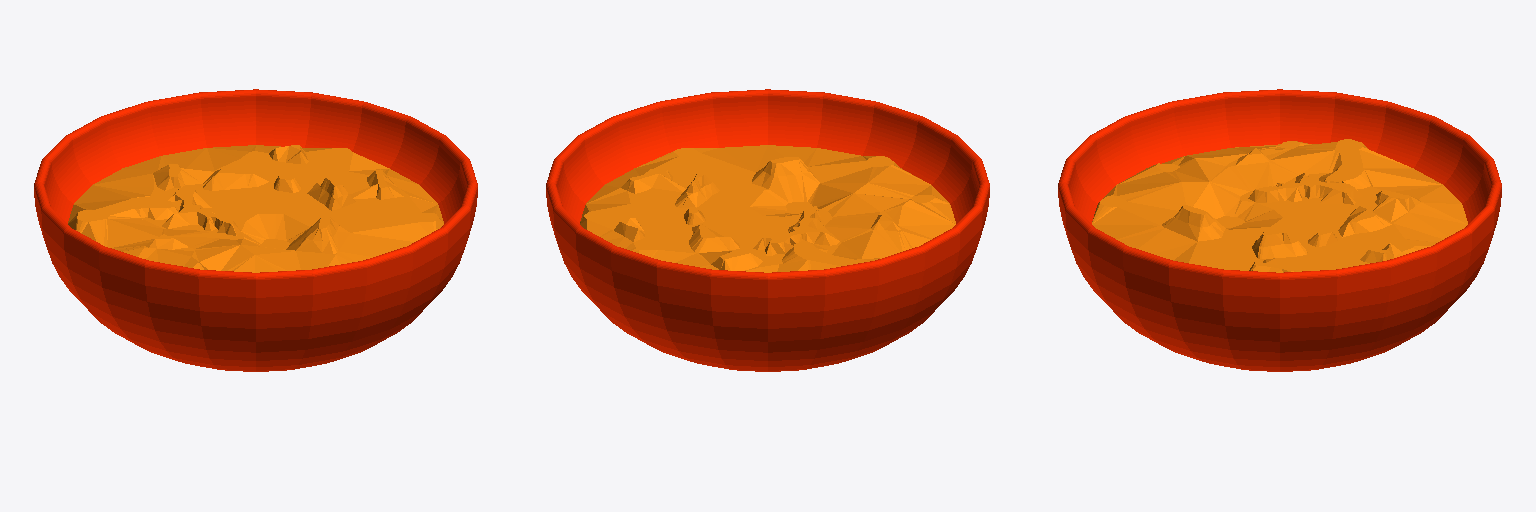
File: krem_soup.obj
The picture shows the model from 3 angles: view 1: azimuth 30°, elevation 25°; view 2: azimuth 150°, elevation 25°; view 3: azimuth 270°, elevation 25°; orthographic projection.
Visible parts, largest first — view 1: soup; view 2: soup; view 3: soup.
Part boxes in pixels (left/top/right/bottom): soup: left=34, top=89, right=477, bottom=371; soup: left=546, top=89, right=989, bottom=371; soup: left=1058, top=89, right=1501, bottom=371.
Bounding box in the file's own units: 0.1667 × 0.0616 × 0.1667.